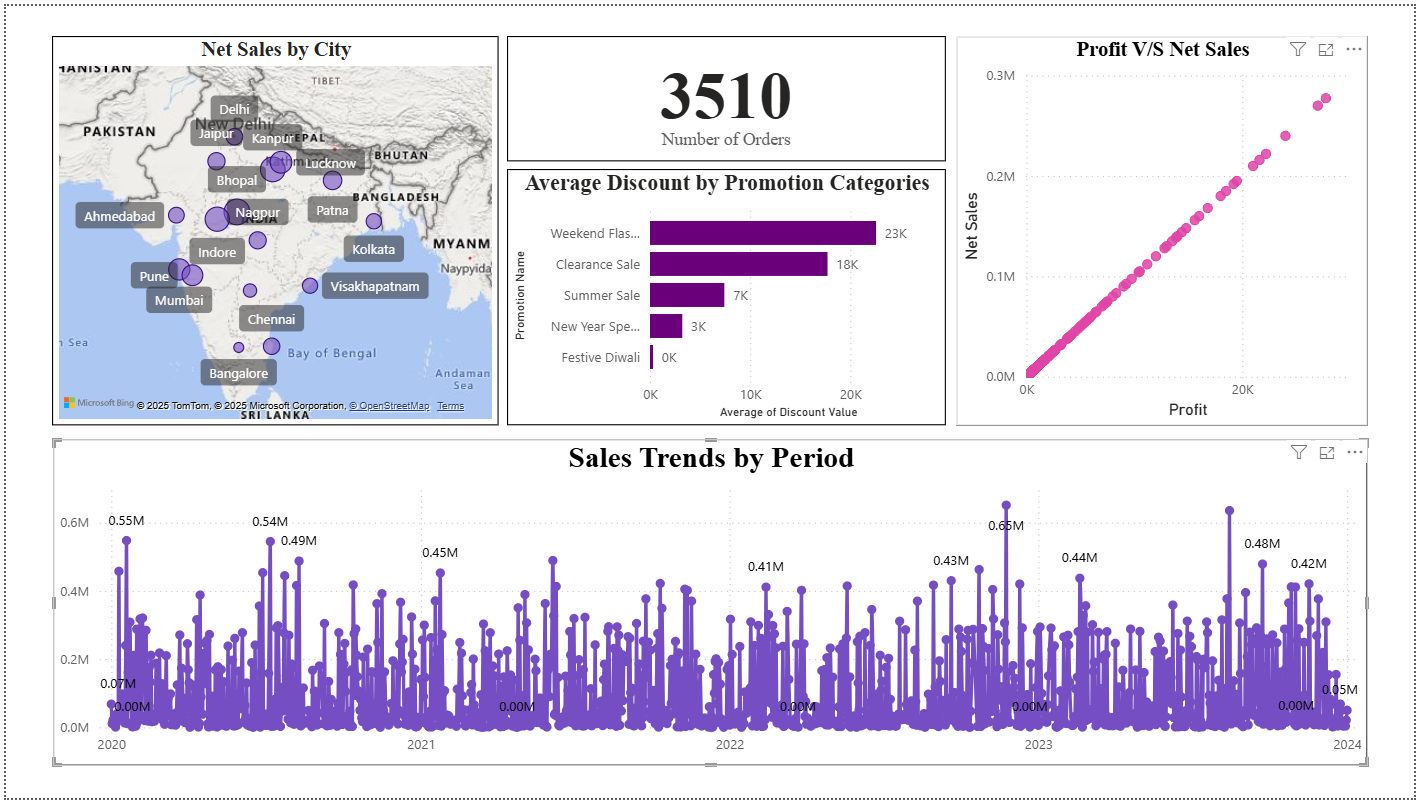

This screenshot's page, from the dashboard's own definition file:
{"tool":"powerbi","page":{"name":"Overview","canvas":[1280,720],"ordinal":0},"visuals":[{"type":"scatterChart","title":"Profit V/S Net Sales","fields":{"X":["Fact Table.Profit"],"Y":["Fact Table.Net Sales"]},"box":[863.3,26.9,374.3,353.7],"z":0},{"type":"barChart","title":"Average Discount by Promotion Categories","fields":{"Y":["Avg(Fact Table.Discount Value)"],"Category":["Dim Promotion.Promotion Name"]},"box":[455.8,147.8,398.5,232.8],"z":1000},{"type":"map","title":"Net Sales by City","fields":{"Category":["Dim Customers.City"],"Size":["Sum(Fact Table.Net Sales)"]},"box":[42.1,26.9,405.7,353.7],"z":2000},{"type":"card","fields":{"Values":["Count(Fact Table.Order ID)"]},"box":[455.8,26.9,398.5,113.7],"z":3000},{"type":"lineChart","title":"Sales Trends by Period","fields":{"Y":["Sum(Fact Table.Net Sales)"],"Category":["Fact Table.Date (dd/mm/yyyy).Variation.Date Hierarchy.Year"]},"box":[42.7,393.6,1195.5,297.3],"z":4000}]}

Visuals, with their boxes in screenshot pixels (x1, y1, x2, y2), scaled from the page's 1280x720 canvas onto the 1420x803 screenshot:
"Profit V/S Net Sales" scatterChart: 958,30,1373,424
"Average Discount by Promotion Categories" barChart: 506,165,948,424
"Net Sales by City" map: 47,30,497,424
card - Count(Fact Table.Order ID): 506,30,948,157
"Sales Trends by Period" lineChart: 47,439,1374,771
